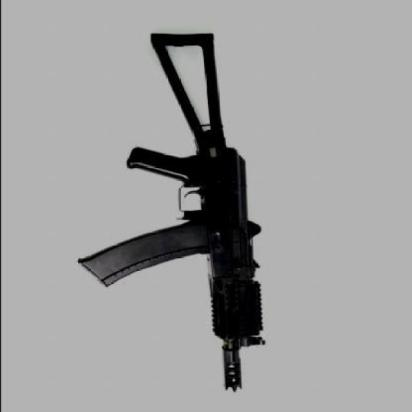Gun: (56, 24, 268, 393)
